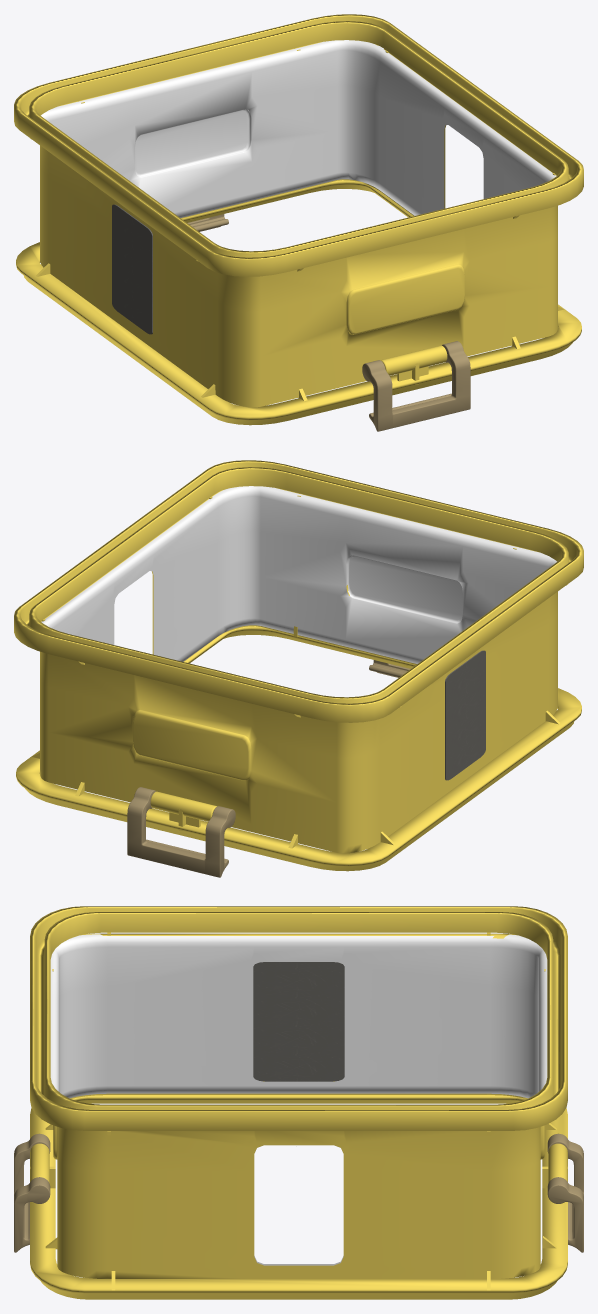
File: 360-cextender.glb
3 views of the same model, one above another, from view 1: azimuth 30°, elevation 25°; view 2: azimuth 150°, elevation 25°; view 3: azimuth 270°, elevation 25° (orthographic). The views are drawn at different scales.
Visible parts, largest first — view 1: c Cube.063, c Cube.062, c Plane.043, c Plane.044, c Circle.010, c Plane.052, c Cube.064; view 2: c Cube.063, c Cube.062, c Plane.043, c Plane.044, c Circle.010, c Plane.052, c Cube.064; view 3: c Cube.062, c Cube.063, c Plane.043, c Plane.044, c Plane.052, c Circle.010, c Cube.064, c Cube.065.
Boxes of the visible parts, x1,y1,x2,y2 form: c Cube.063: (40,42,557,407); c Cube.062: (41,40,556,217); c Plane.043: (14,14,583,276); c Plane.044: (16,180,581,425); c Circle.010: (187,214,470,431); c Plane.052: (112,204,152,334); c Cube.064: (190,219,447,384); c Cube.063: (40,488,557,853); c Cube.062: (41,486,556,663); c Plane.043: (14,460,583,722); c Plane.044: (16,626,581,871); c Circle.010: (127,660,410,877); c Plane.052: (445,650,485,780); c Cube.064: (150,665,407,830); c Cube.062: (50,934,547,1265); c Cube.063: (53,933,544,1278); c Plane.043: (30,906,567,1130); c Plane.044: (30,1095,567,1299); c Plane.052: (253,962,344,1081); c Circle.010: (14,1133,583,1252); c Cube.064: (30,1143,567,1188); c Cube.065: (45,1093,556,1290).
Size of the model in its own units: 5.62 by 2.77 by 6.57.
5 materials, 1 textured.
